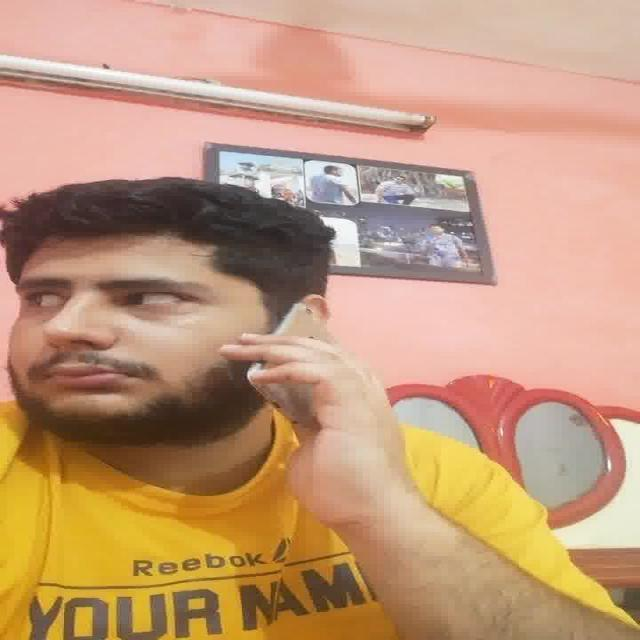Phone: (274, 297, 342, 347)
